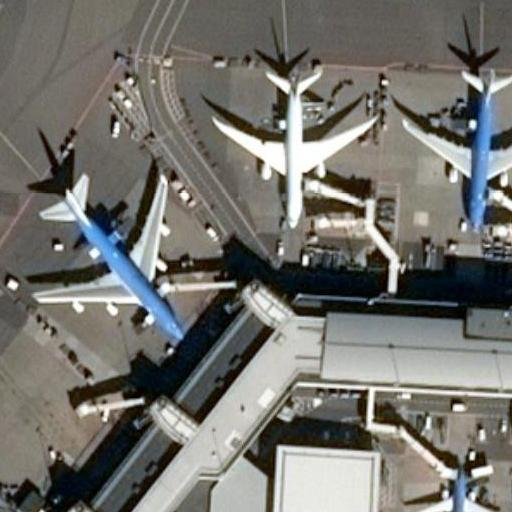Aircraft: (23, 153, 195, 346), (205, 52, 384, 231), (396, 57, 512, 238), (410, 455, 507, 512)
